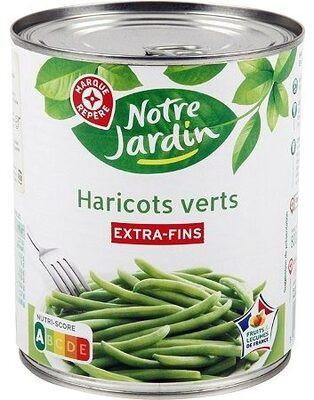Haricots verts extra fins 4/4: (16, 20, 298, 380)
